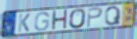G: (34, 11, 50, 32)
H: (51, 8, 68, 32)
K: (17, 13, 32, 33)
O: (69, 8, 87, 30)
P: (86, 6, 104, 29)
Q: (104, 5, 122, 27)
